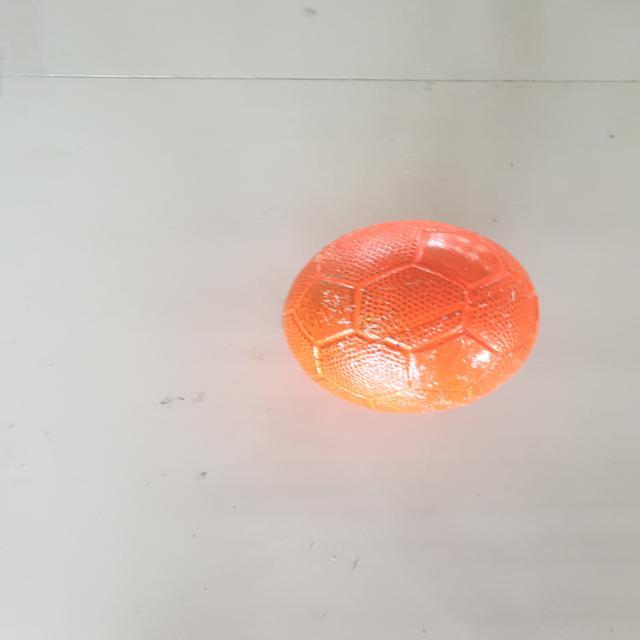bola: (282, 218, 546, 418)
